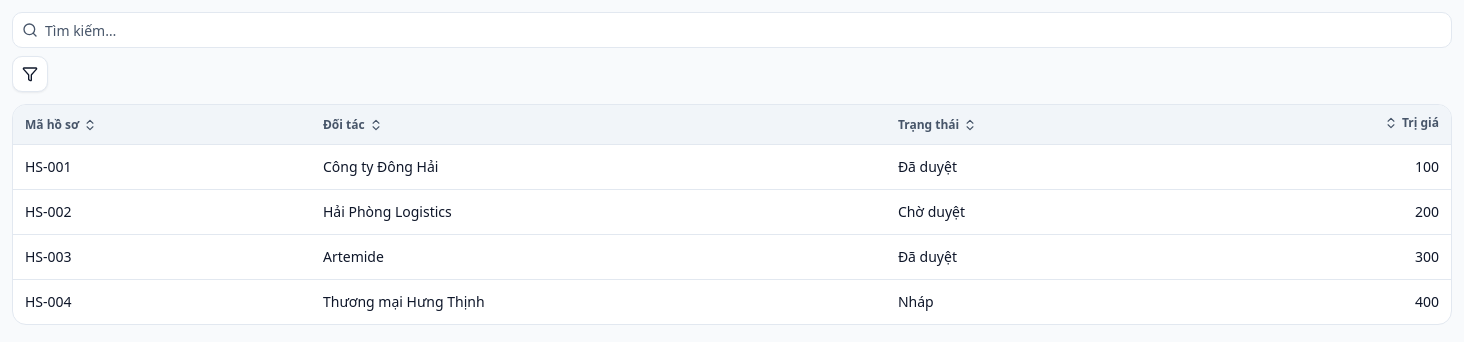
it: DataTable – tìm kiếm toàn bảng › đang lọc: báo số dòng hiển thị / tổng
Type "duyet" into the search field named "Tìm trong bảng".
click(732, 30); type("duyet")  # box left=12, top=12, right=1452, bottom=48
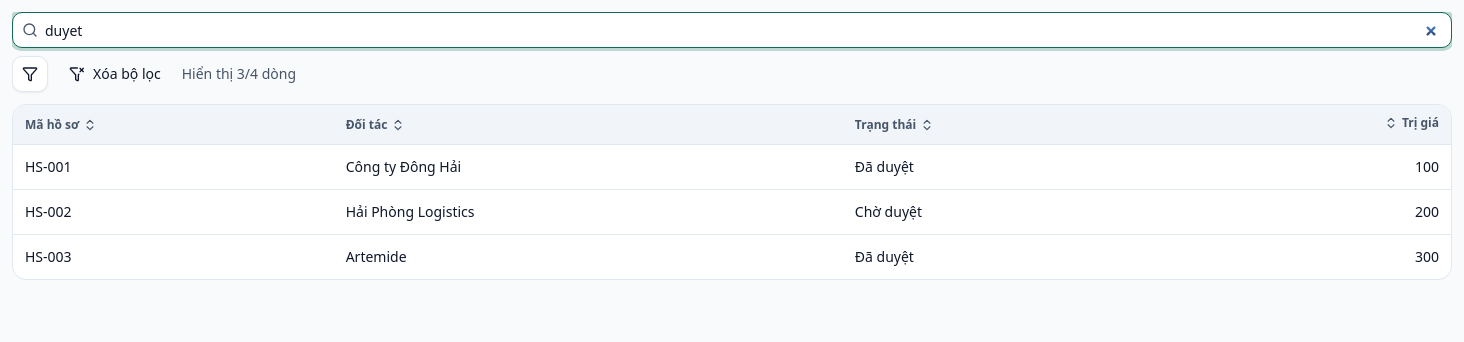
Expected: the message reads "Hiển thị 3/4 dòng", left=182, top=64, right=296, bottom=83
